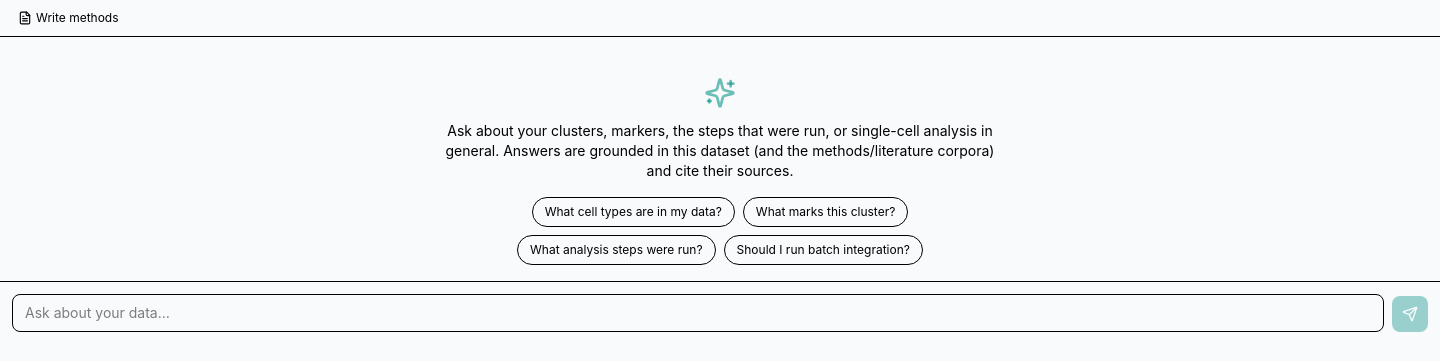
Test: co-pilot plans › shows a numbered checklist and runs nothing until Run plan
Type "color by stim, then detect doublets" into the text box named "Message to the co-pilot".
click(698, 313); type("color by stim, then detect doublets")  # box [12,294,1384,332]
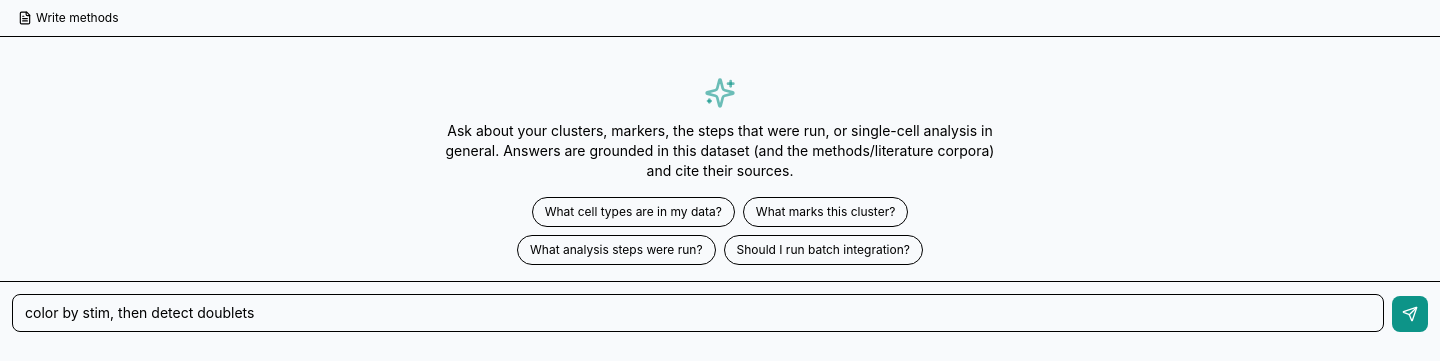
Click the button named "Send".
click(1410, 314)  # box [1392,296,1428,332]
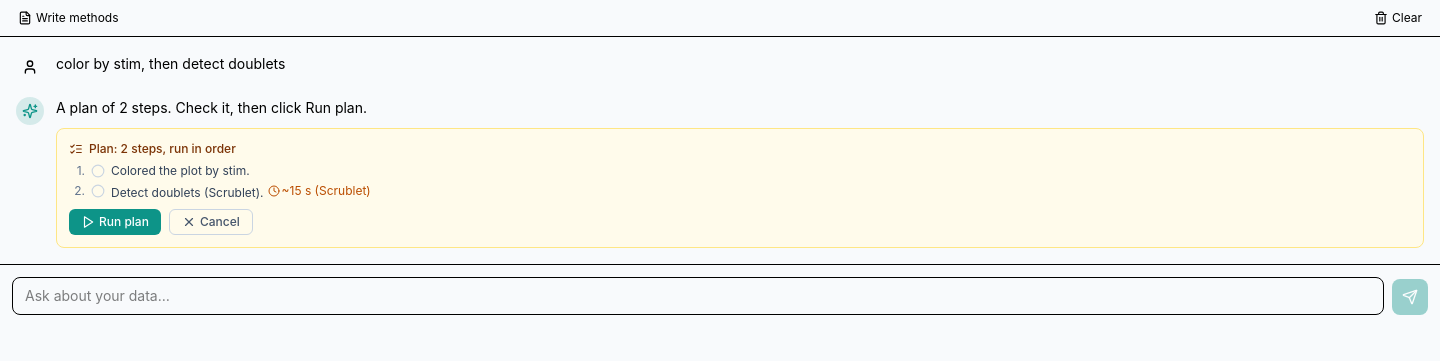
Now the list items read "1.Colored the plot by stim.", "2.Detect doublets (Scrublet).~15 s (Scrublet)", in this order, box [77,163,250,178]; [74,183,371,200]
Click the button "Run plan".
click(115, 222)  # box [69,209,161,235]
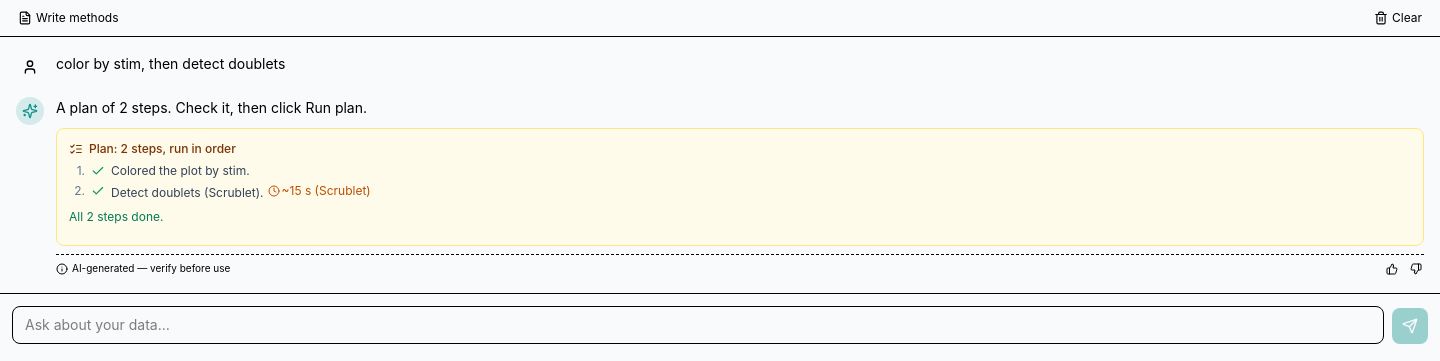
Now the message reads "All 2 steps done.", box [69,209,164,224]
